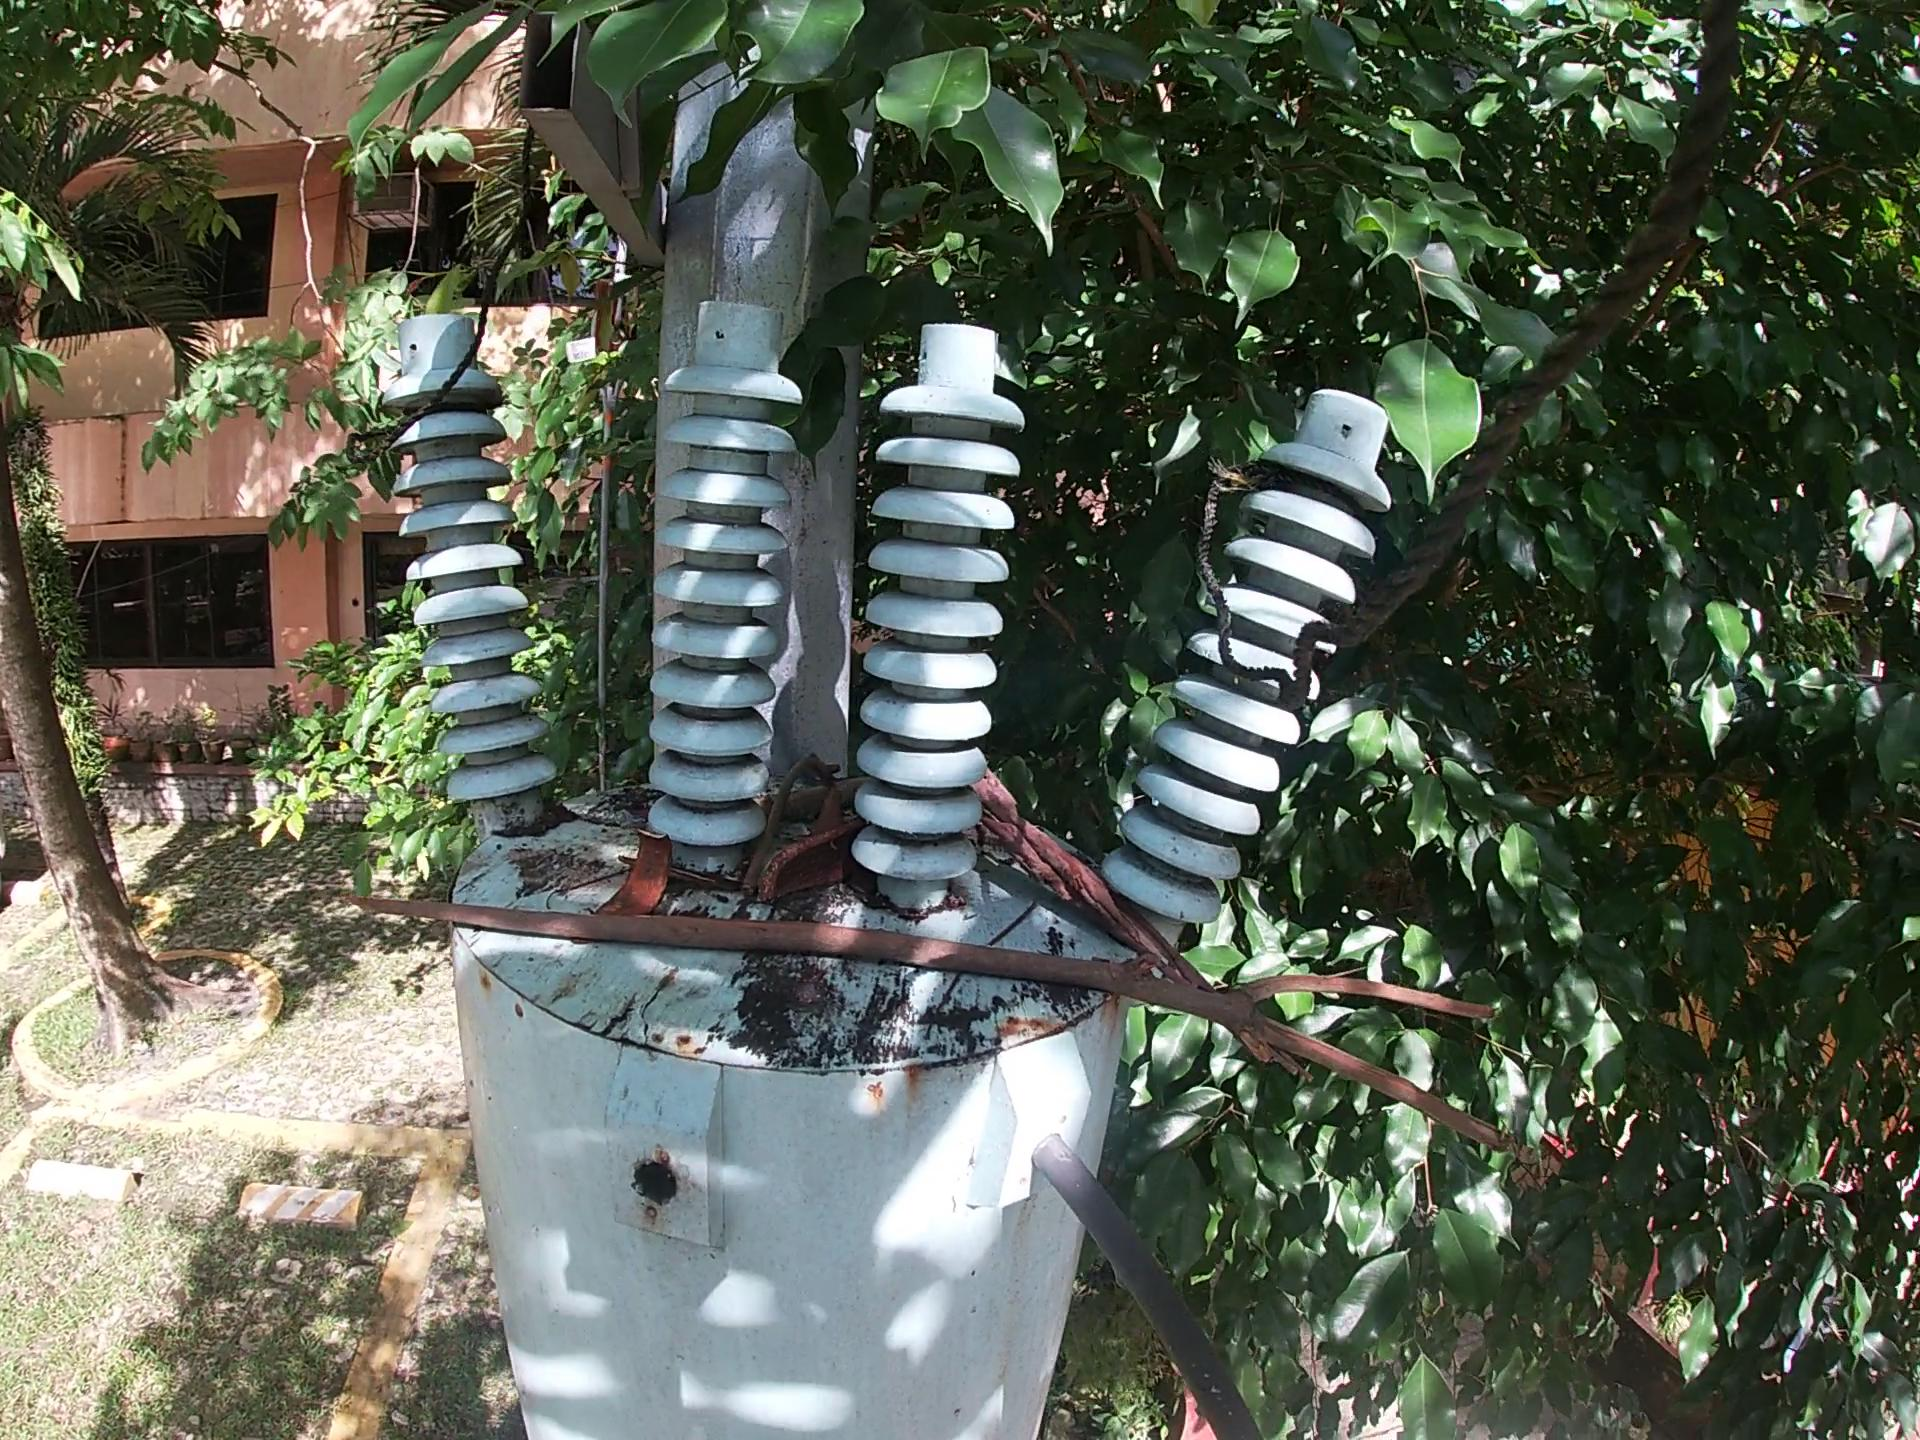leaf: (810, 782, 847, 844)
mahogany fruit: (751, 823, 865, 914), (591, 829, 680, 926)
tree branch: (331, 883, 1525, 1166), (974, 762, 1300, 1089), (732, 755, 838, 895), (756, 771, 872, 838)
